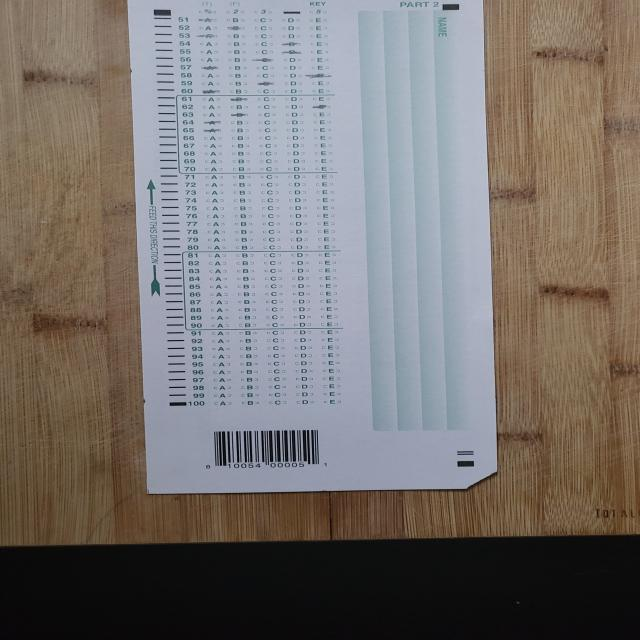scantron_back: (124, 0, 498, 493)
